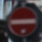No entry: (6, 6, 36, 36)
